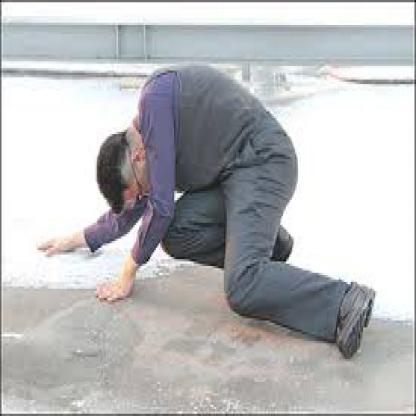Fall_Down: (32, 56, 378, 364)
